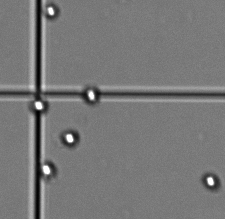Living Cell: (81, 84, 100, 106), (60, 128, 79, 147), (30, 96, 49, 113), (39, 161, 56, 179), (42, 2, 60, 19), (201, 172, 218, 189)
